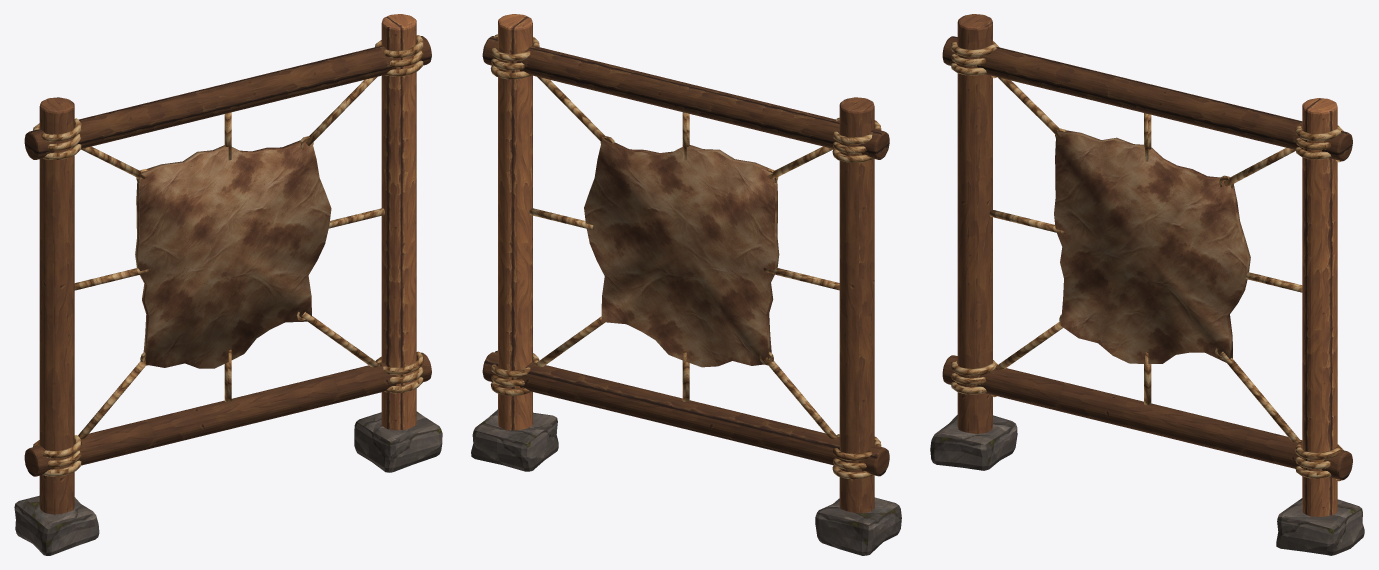
File: tanning_rack.glb
The picture shows the model from 3 angles, left to right: view 1: azimuth 30°, elevation 25°; view 2: azimuth 150°, elevation 25°; view 3: azimuth 330°, elevation 25°; orthographic projection.
Visible parts, largest first — view 1: model; view 2: model; view 3: model.
Boxes of the visible parts, x1=… form: model: x1=14, y1=14, x2=442, y2=555; model: x1=471, y1=14, x2=901, y2=555; model: x1=930, y1=14, x2=1364, y2=555.
Size of the model in its own units: 1.53 by 1.59 by 0.2356.
Materials: 9 (9 with a texture image).
